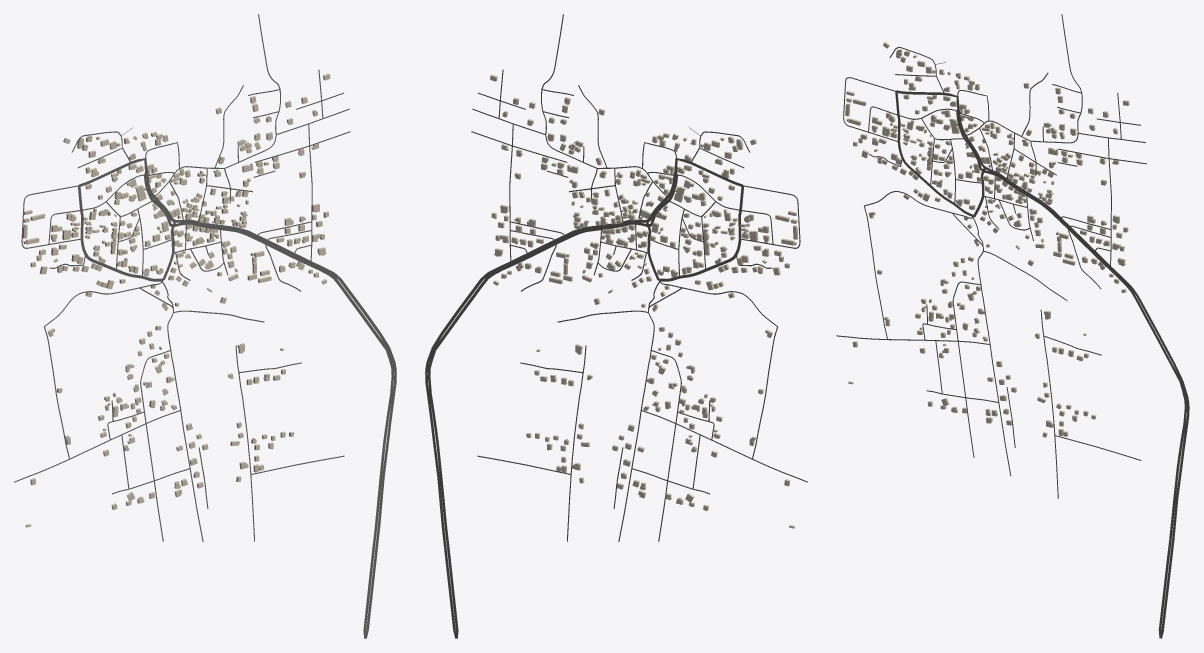
Rendered from irbid_3579_3258.glb.
3 views of the same model, side by side, from view 1: azimuth 30°, elevation 25°; view 2: azimuth 150°, elevation 25°; view 3: azimuth 330°, elevation 25° (orthographic). The views are drawn at different scales.
Parts seen in each view (by area): view 1: Road .001, Road, Road .043; view 2: Road .001, Road, Road .043; view 3: Road .001, Road.
Boxes of the visible parts, x1,y1,x2,y2 form: Road .001: [144, 175, 393, 638]; Road: [174, 219, 396, 638]; Road .043: [78, 185, 163, 281]; Road .001: [428, 175, 677, 638]; Road: [425, 219, 646, 638]; Road .043: [658, 185, 743, 281]; Road .001: [956, 112, 1186, 638]; Road: [985, 166, 1189, 638].
Size of the model in its own units: 1155 by 1877 by 8.7.
